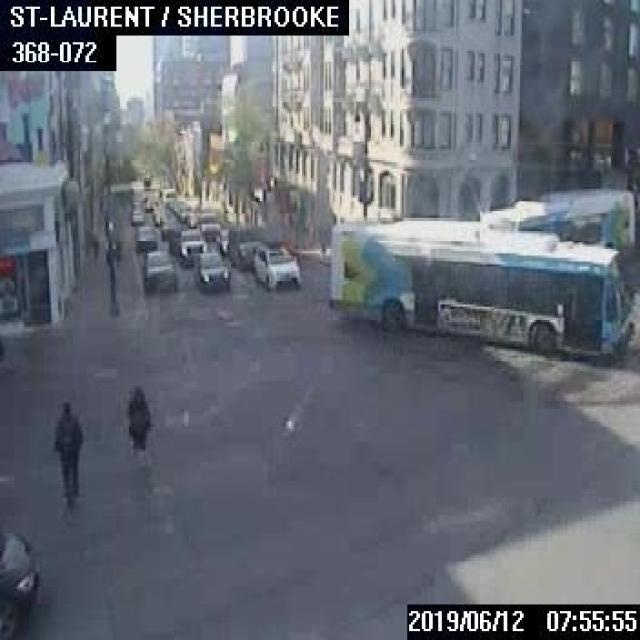bus: (326, 217, 634, 356), (474, 186, 634, 249)
pedestrian: (51, 400, 84, 507), (126, 382, 148, 462)
vehicle: (0, 526, 35, 638), (252, 244, 299, 286), (228, 224, 264, 267), (193, 251, 228, 289), (142, 251, 175, 291), (175, 228, 205, 264), (134, 223, 157, 250), (197, 210, 219, 238), (168, 224, 188, 254), (159, 215, 178, 237), (215, 226, 229, 252), (130, 199, 144, 223)
